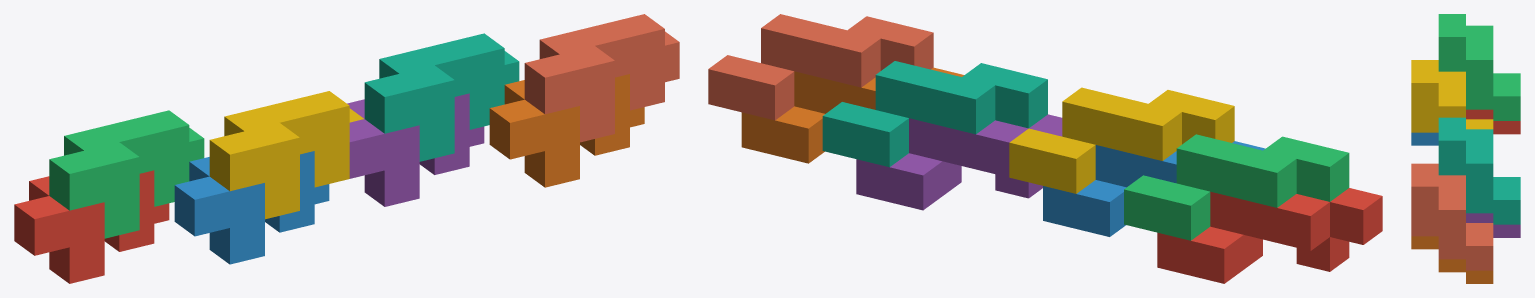
The model's file is tiling.obj.
The picture shows the model from 3 angles, left to right: view 1: azimuth 30°, elevation 25°; view 2: azimuth 150°, elevation 25°; view 3: azimuth 270°, elevation 25°; orthographic projection. The views are drawn at different scales.
Visible parts, largest first — view 1: copy_1_domain_8, copy_1_domain_3, copy_1_domain_7, copy_1_domain_4, copy_1_domain_1, copy_1_domain_6, copy_1_domain_2, copy_1_domain_5; view 2: copy_1_domain_3, copy_1_domain_7, copy_1_domain_8, copy_1_domain_4, copy_1_domain_1, copy_1_domain_5, copy_1_domain_6, copy_1_domain_2; view 3: copy_1_domain_8, copy_1_domain_7, copy_1_domain_3, copy_1_domain_4, copy_1_domain_6, copy_1_domain_1, copy_1_domain_5, copy_1_domain_2.
Part boxes in pixels (x1,y1,x2,y2): copy_1_domain_8: [524, 14, 679, 142]; copy_1_domain_3: [49, 110, 204, 238]; copy_1_domain_7: [364, 33, 519, 161]; copy_1_domain_4: [209, 91, 363, 219]; copy_1_domain_1: [14, 170, 169, 283]; copy_1_domain_6: [489, 74, 644, 187]; copy_1_domain_2: [174, 151, 329, 264]; copy_1_domain_5: [347, 93, 484, 206]; copy_1_domain_3: [1124, 134, 1349, 240]; copy_1_domain_7: [822, 61, 1047, 167]; copy_1_domain_8: [708, 14, 933, 120]; copy_1_domain_4: [1009, 87, 1234, 193]; copy_1_domain_1: [1157, 188, 1382, 283]; copy_1_domain_5: [856, 114, 1062, 210]; copy_1_domain_6: [741, 67, 964, 163]; copy_1_domain_2: [1043, 141, 1265, 236]; copy_1_domain_8: [1411, 163, 1493, 270]; copy_1_domain_7: [1438, 117, 1520, 224]; copy_1_domain_3: [1438, 14, 1520, 120]; copy_1_domain_4: [1411, 60, 1493, 132]; copy_1_domain_6: [1411, 236, 1493, 283]; copy_1_domain_1: [1466, 109, 1520, 134]; copy_1_domain_5: [1466, 213, 1520, 237]; copy_1_domain_2: [1411, 132, 1438, 145].
Size of the model in its own units: 19 by 3 by 4.
